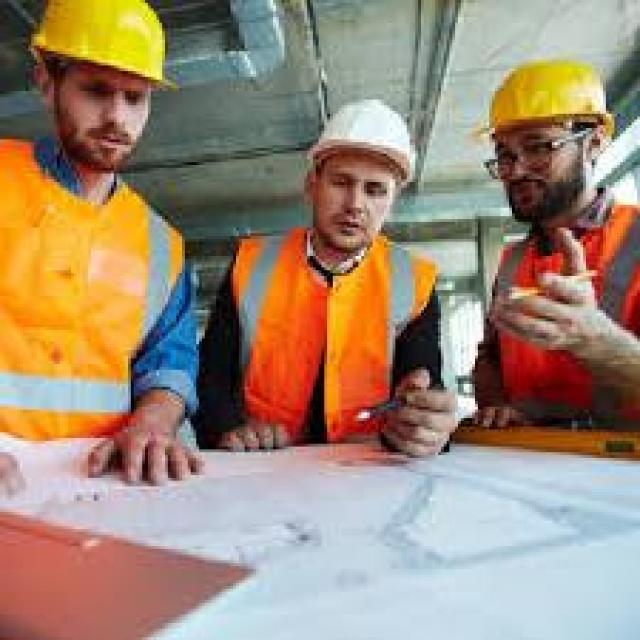Reflective-Jacket: (3, 131, 182, 483), (219, 228, 438, 452), (478, 199, 637, 435)
Safety-Helmet: (22, 0, 188, 94), (472, 51, 623, 145), (287, 88, 427, 188)
